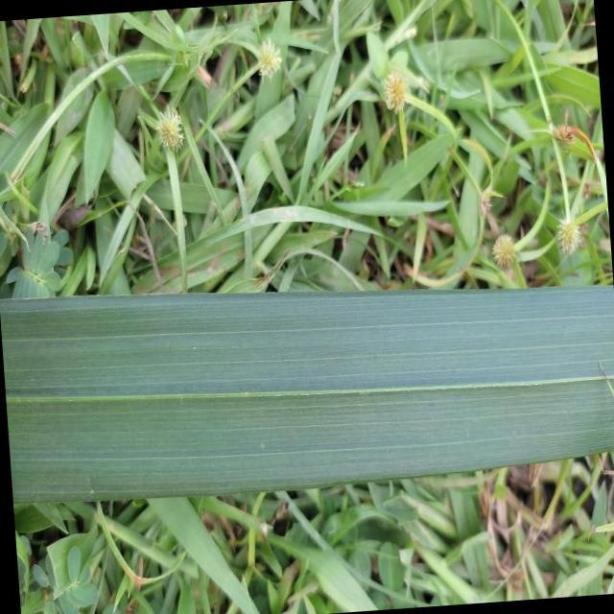Healthy: (0, 288, 614, 505)
